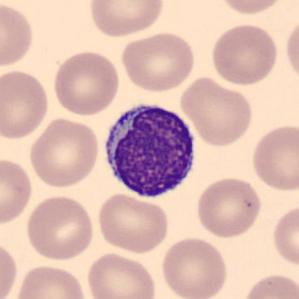Lymphocyte: (96, 96, 200, 202)
RBC: (26, 115, 101, 190), (178, 75, 255, 148), (24, 193, 97, 262), (118, 30, 197, 93), (51, 48, 121, 117), (95, 192, 171, 255), (208, 20, 280, 86), (158, 234, 230, 299), (194, 174, 264, 240), (0, 67, 51, 141), (84, 250, 158, 299), (250, 121, 298, 194), (86, 0, 167, 39), (12, 262, 88, 299), (0, 0, 36, 71), (0, 156, 34, 228), (270, 202, 299, 269), (242, 272, 298, 299), (213, 0, 287, 16), (0, 237, 19, 299), (283, 15, 299, 85)
